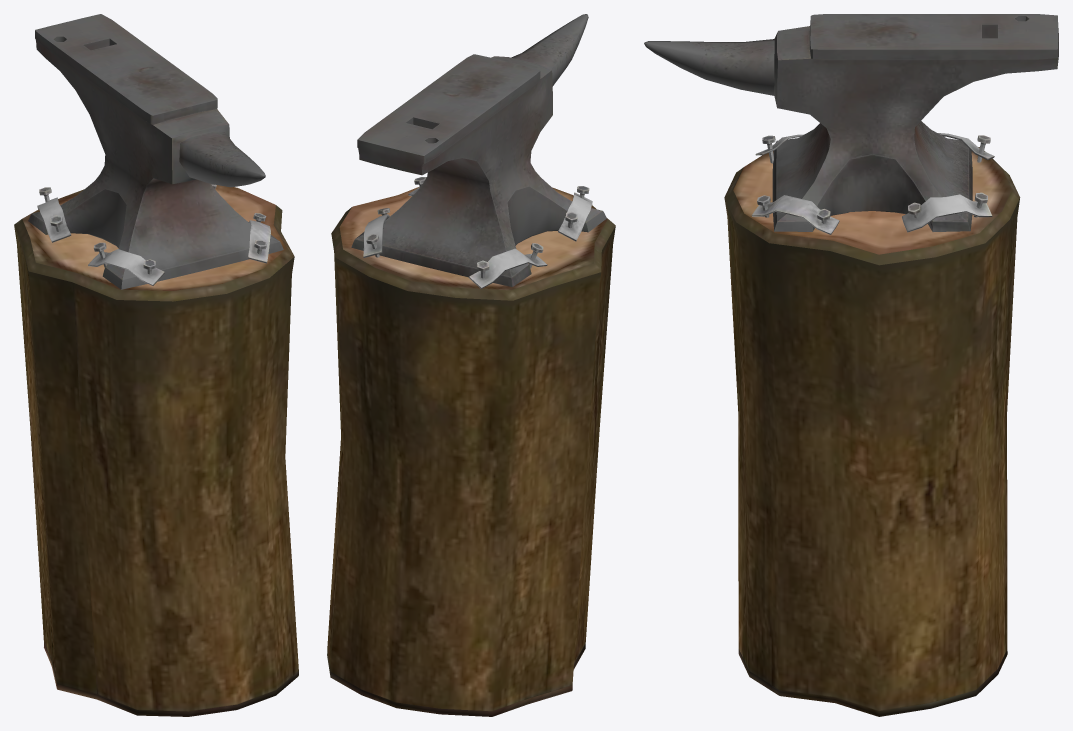
The model's file is PRP_Anvil.glb.
The picture shows the model from 3 angles, left to right: view 1: azimuth 30°, elevation 25°; view 2: azimuth 150°, elevation 25°; view 3: azimuth 270°, elevation 25°; orthographic projection. The views are drawn at different scales.
Visible parts, largest first — view 1: Clamps_low_AnvilMAT_0; view 2: Clamps_low_AnvilMAT_0; view 3: Clamps_low_AnvilMAT_0.
Part boxes in pixels (x1,y1,x2,y2): Clamps_low_AnvilMAT_0: [14, 14, 298, 716]; Clamps_low_AnvilMAT_0: [327, 14, 615, 716]; Clamps_low_AnvilMAT_0: [644, 14, 1058, 716].
Bounding box in the file's own units: 327 × 698 × 426.
1 material, 1 textured.
